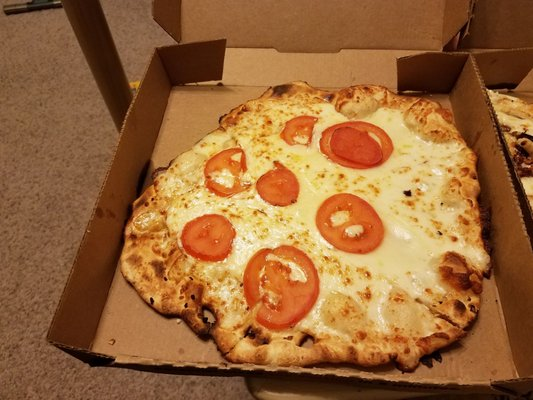sandwich: (118, 81, 503, 372)
